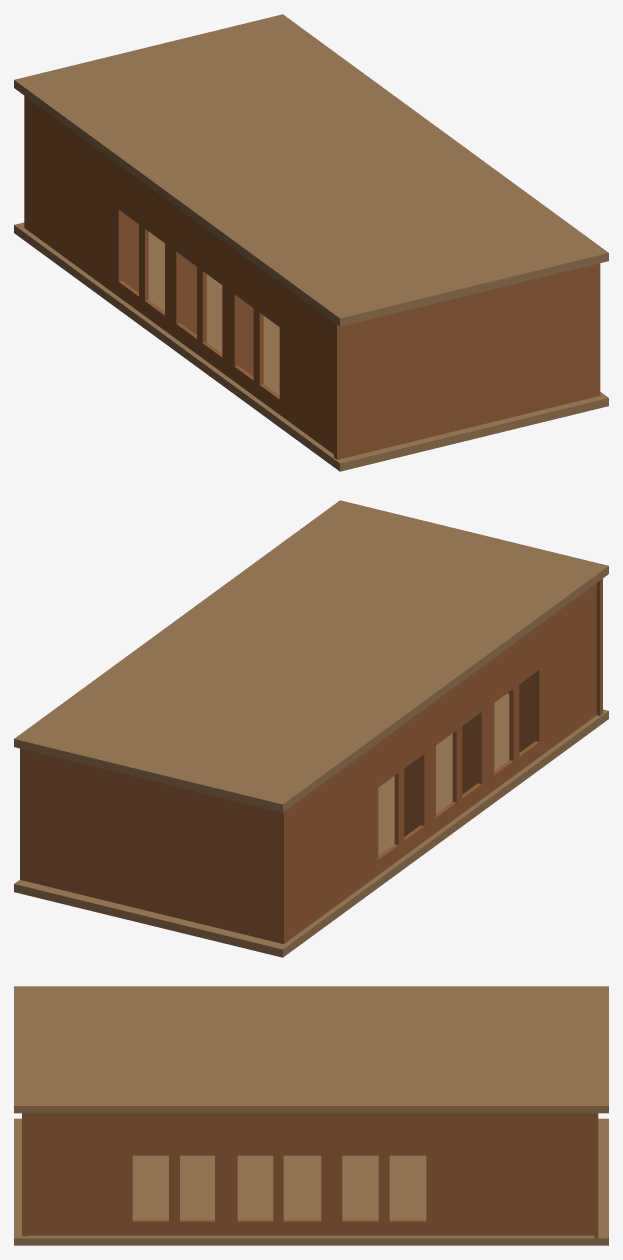
The model's file is wall_floor_ceeling.glb.
3 renders of one model, top to bottom at view 1: azimuth 30°, elevation 25°; view 2: azimuth 150°, elevation 25°; view 3: azimuth 270°, elevation 25°, orthographic. The views are drawn at different scales.
Parts seen in each view (by area): view 1: ceeling, wall, floor; view 2: ceeling, wall, floor; view 3: ceeling, wall, floor.
Boxes of the visible parts, x1,y1,x2,y2 form: ceeling: (14,14,608,326); wall: (24,96,600,459); floor: (14,222,608,471); ceeling: (14,500,608,812); wall: (20,578,602,943); floor: (14,693,608,957); ceeling: (14,986,608,1113); wall: (22,1113,598,1238); floor: (14,1118,608,1245).
Size of the model in its own units: 13.78 by 7.5 by 28.94.
